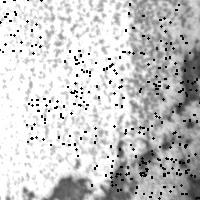pitted_surface: (1, 1, 184, 153), (26, 97, 86, 155), (91, 125, 148, 184), (63, 50, 123, 105), (139, 35, 195, 93), (139, 116, 188, 176), (125, 3, 178, 56), (154, 62, 200, 120), (102, 149, 153, 200), (162, 143, 200, 200), (0, 0, 40, 53), (110, 166, 167, 200), (174, 46, 200, 115), (37, 173, 95, 200)
